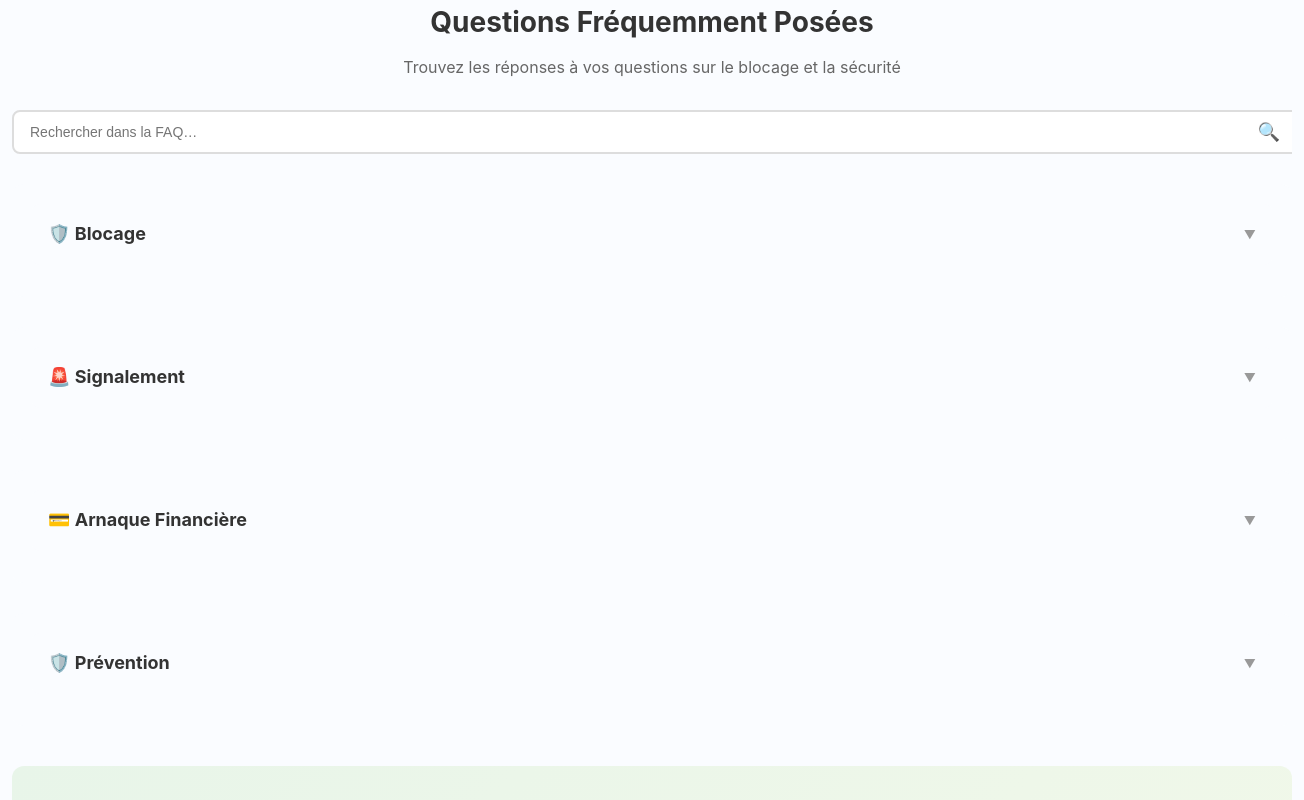
Scenario: FAQSection Component - Expanded Coverage › Search Filtering › should show no results when no match
The width and height of the screenshot is (1304, 800).
Type "zzzzzzz" into the field with class "search-input". click: coordinates (652, 132)
box: top-left (12, 110), bottom-right (1292, 154)
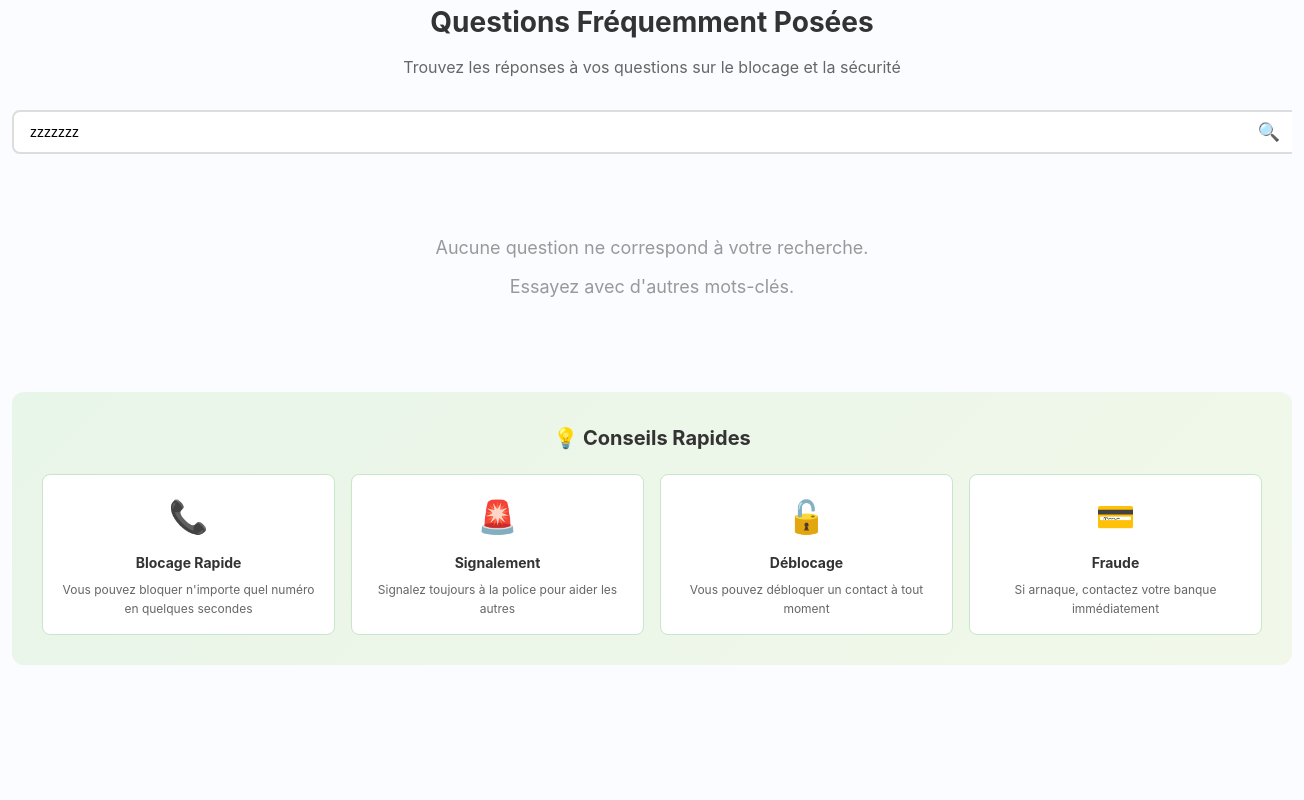
expect the element with class "no-results" is shown: met, box top-left (436, 237), bottom-right (868, 297)
expect the element with class "no-results" shows "correspond": met, box top-left (436, 237), bottom-right (868, 258)
